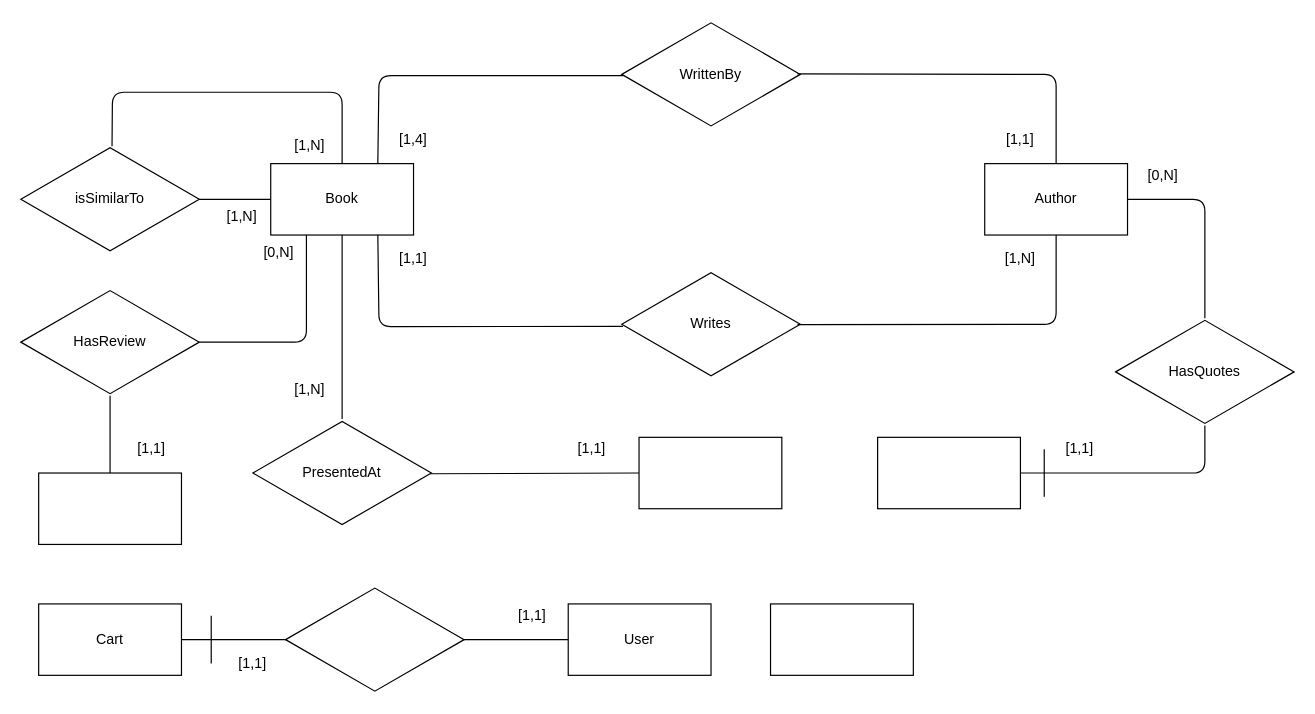
This 1315x714 diagram has some shape labels left out. The centre of each missing label's shape, as x and y in pixels:
"Event" belongs at [710,472].
"HasCart" belongs at [374,639].
"Ordering and Shipping" belongs at [841,639].
"Quotes" belongs at [948,472].
"Review" belongs at [109,508].
